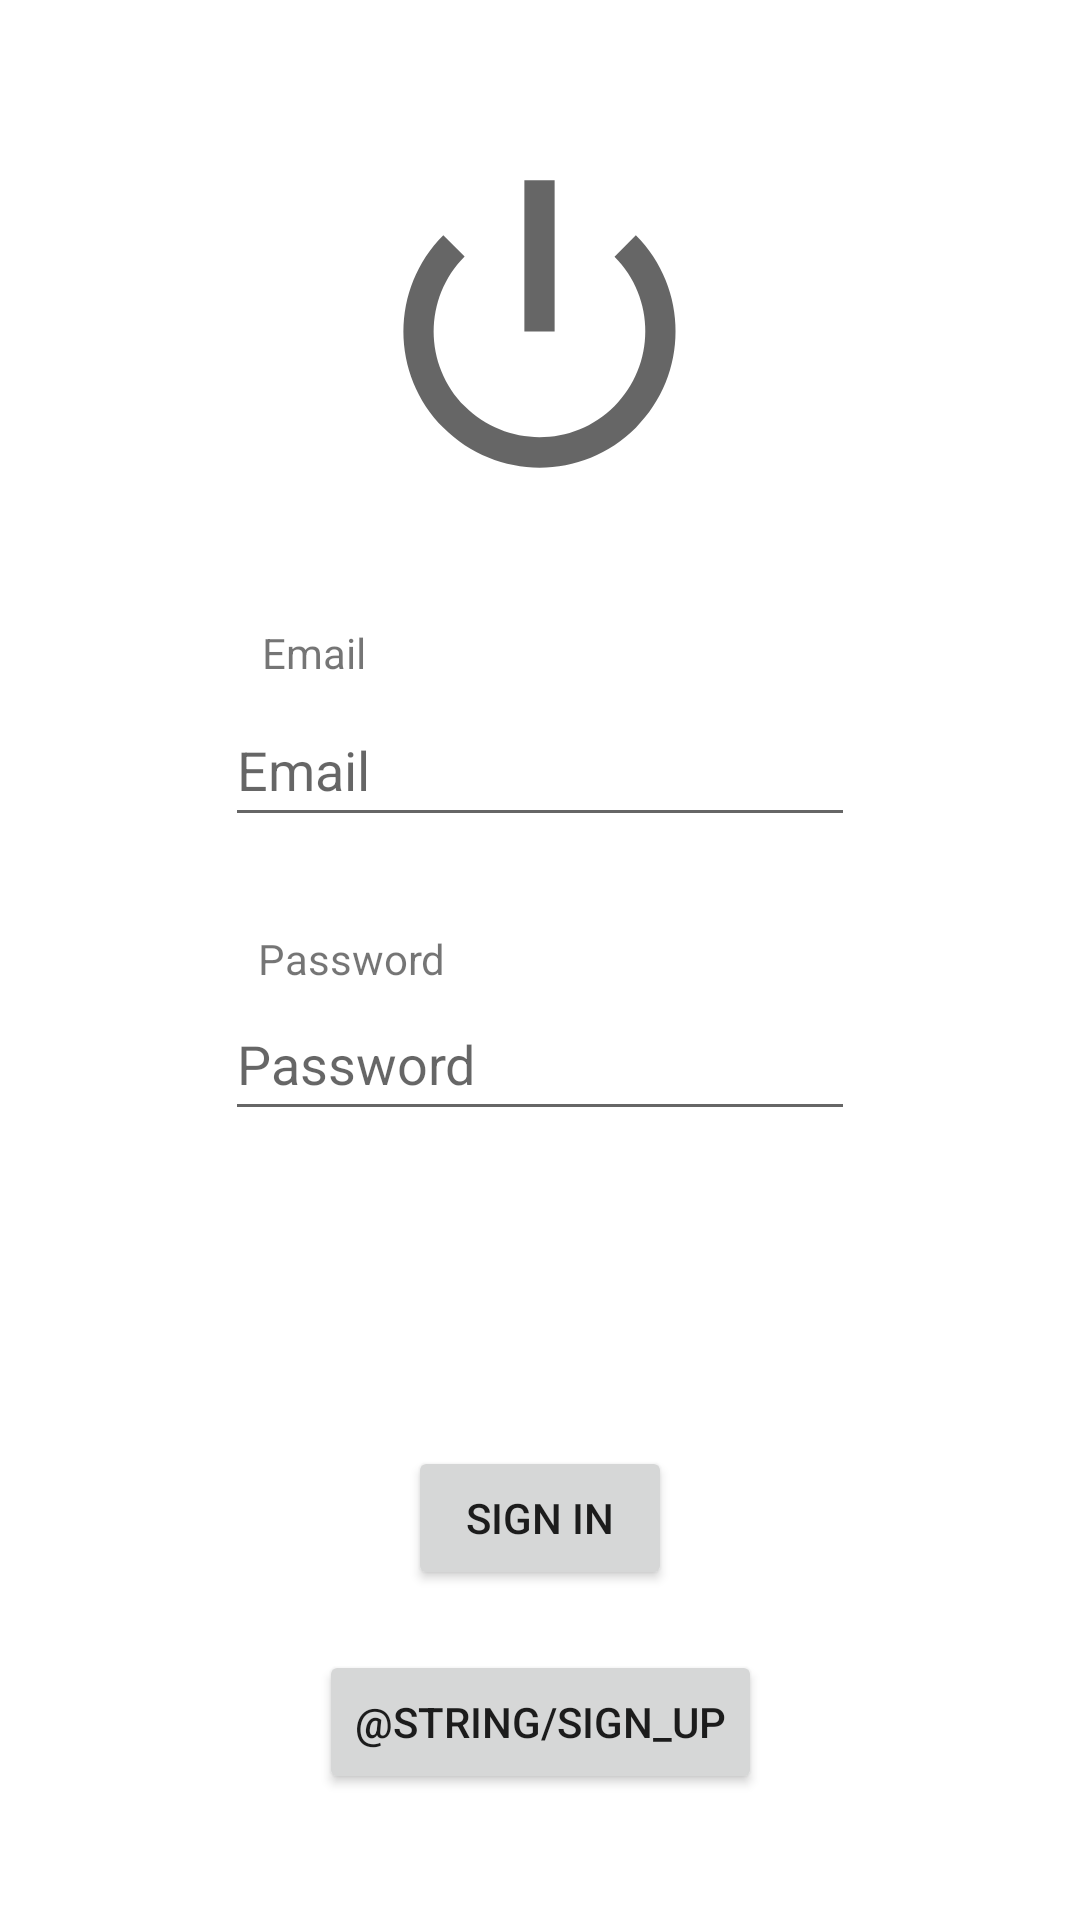

Where icons sit on this 1080w x 1920h app screen, as (left=x1, top=y1, right=x2, bottom=y2):
lock power off: (left=403, top=180, right=676, bottom=468)
